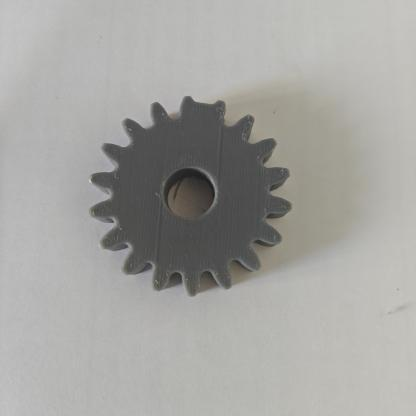defect: (165, 88, 263, 160)
gear: (70, 85, 345, 321)
